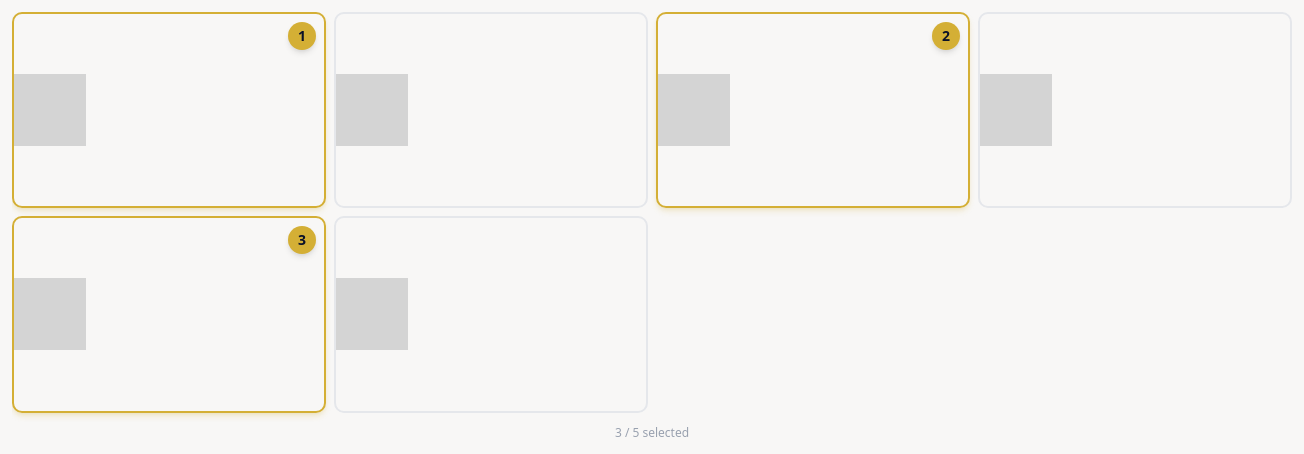
Test: PhotoSelector › re-numbers the remaining selections when one is removed (mid-selection)
expect the text "1" is shown: met, box [288,22,316,50]
expect the text "2" is shown: met, box [932,22,960,50]
// Click the middle selection (photo-3, currently badge "2") to deselect it.
Click the button "2". click: click(694, 110)
box: [656,12,970,208]
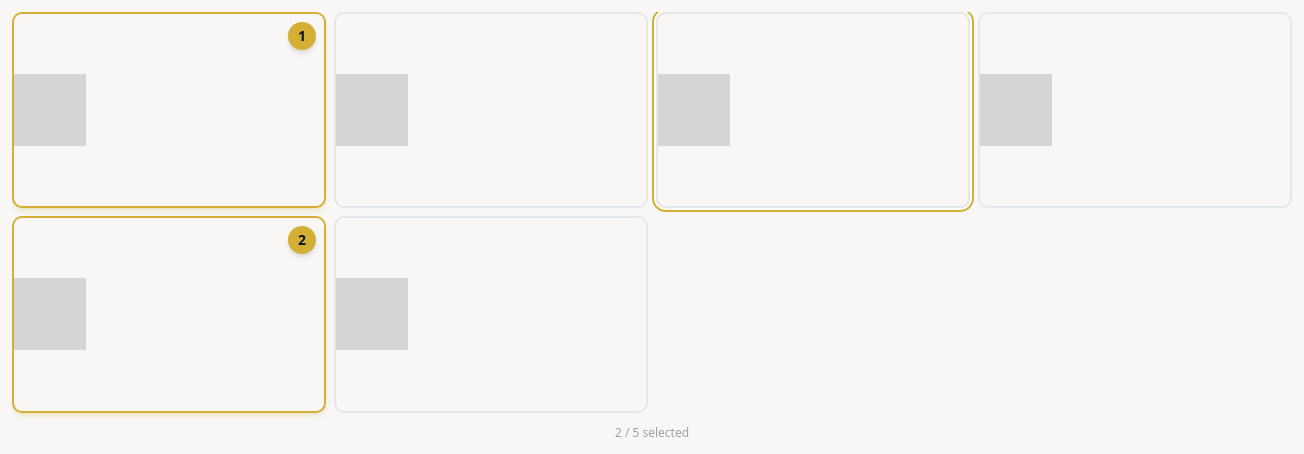
expect the text "1" is shown: met, box [288,22,316,50]
expect the button "3" is gone: met
